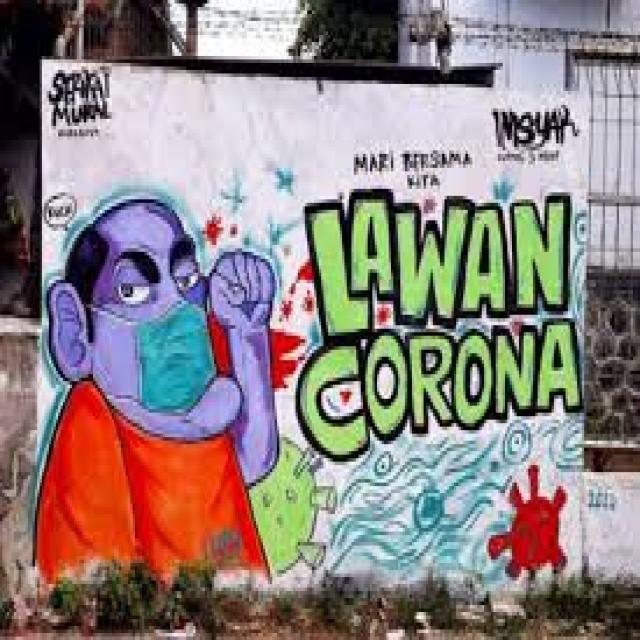-: (36, 188, 586, 592), (494, 104, 583, 164), (354, 149, 474, 193), (47, 66, 113, 140)
